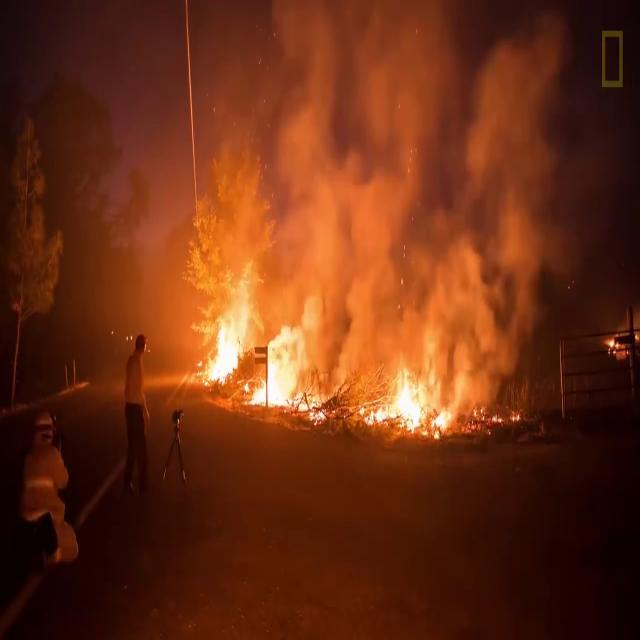Fire: (360, 351, 450, 442), (256, 312, 325, 425), (205, 293, 249, 387), (472, 406, 522, 423), (609, 336, 619, 351)
Smoke: (153, 16, 572, 361), (465, 18, 583, 284), (276, 0, 356, 258)
